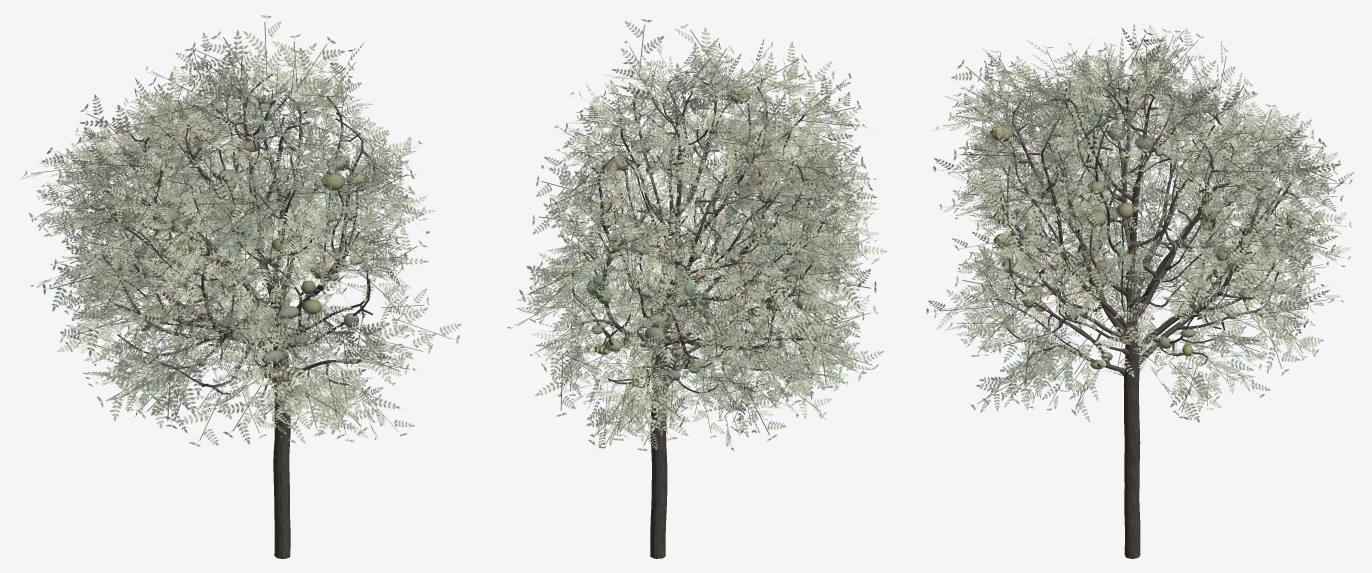
Rendered from tree_62_broadleaf.glb.
3 views of the same model, side by side, from view 1: azimuth 30°, elevation 25°; view 2: azimuth 150°, elevation 25°; view 3: azimuth 270°, elevation 25° (orthographic). The views are drawn at different scales.
Visible parts, largest first — view 1: tree_62_broadleaf.leaves, tree_62_broadleaf.trunk_branches, tree_62_broadleaf.foliage_volume; view 2: tree_62_broadleaf.leaves, tree_62_broadleaf.trunk_branches, tree_62_broadleaf.foliage_volume; view 3: tree_62_broadleaf.leaves, tree_62_broadleaf.trunk_branches, tree_62_broadleaf.foliage_volume.
Boxes of the visible parts, box(x1,y1,x2,y2) form: tree_62_broadleaf.leaves: box(20, 15, 461, 446); tree_62_broadleaf.trunk_branches: box(90, 74, 375, 558); tree_62_broadleaf.foliage_volume: box(110, 131, 368, 379); tree_62_broadleaf.leaves: box(507, 19, 887, 451); tree_62_broadleaf.trunk_branches: box(572, 76, 823, 558); tree_62_broadleaf.foliage_volume: box(586, 86, 815, 380); tree_62_broadleaf.leaves: box(926, 24, 1353, 422); tree_62_broadleaf.trunk_branches: box(995, 76, 1298, 558); tree_62_broadleaf.foliage_volume: box(990, 98, 1301, 369).
Size of the model in its own units: 8.03 by 11.8 by 9.09.
Materials: 3 (2 with a texture image).
